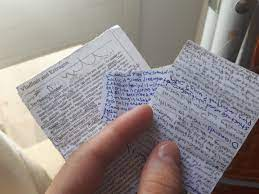Note: (14, 25, 169, 194), (137, 42, 259, 194), (103, 68, 176, 122)
